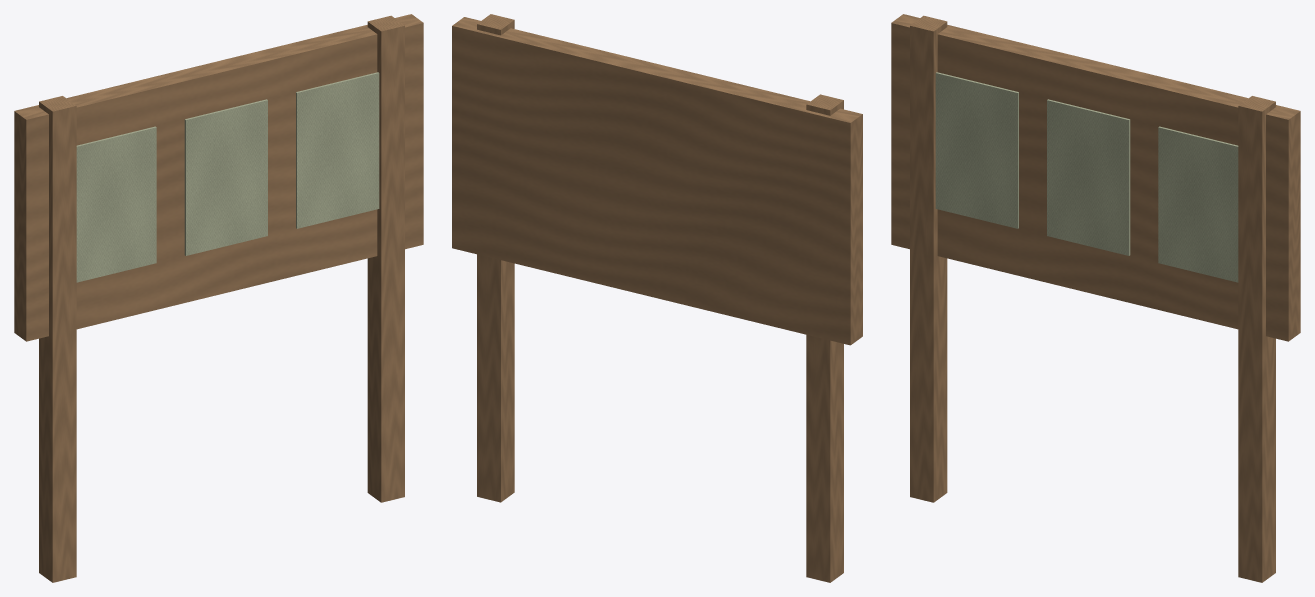
Rendered from board.glb.
The picture shows the model from 3 angles, left to right: view 1: azimuth 30°, elevation 25°; view 2: azimuth 150°, elevation 25°; view 3: azimuth 330°, elevation 25°; orthographic projection.
Parts seen in each view (by area): view 1: notice backing, board post, board post.001, paper notice.001, paper notice.002, paper notice; view 2: notice backing, board post, board post.001; view 3: notice backing, board post.001, board post, paper notice.001, paper notice, paper notice.002.
Part boxes in pixels (bbox=[...]): notice backing: bbox=[14, 14, 423, 341]; board post: bbox=[39, 96, 76, 582]; board post.001: bbox=[367, 15, 404, 502]; paper notice.001: bbox=[184, 99, 267, 255]; paper notice.002: bbox=[296, 72, 379, 228]; paper notice: bbox=[76, 126, 156, 282]; notice backing: bbox=[452, 17, 862, 345]; board post: bbox=[806, 94, 843, 582]; board post.001: bbox=[477, 14, 514, 502]; notice backing: bbox=[891, 14, 1300, 341]; board post.001: bbox=[1238, 96, 1275, 582]; board post: bbox=[910, 15, 947, 502]; paper notice.001: bbox=[1047, 99, 1130, 255]; paper notice: bbox=[935, 72, 1018, 228]; paper notice.002: bbox=[1158, 126, 1238, 282].
Bounding box in the file's own units: 1.5 × 1.7 × 0.105.
Materials: 2 (2 with a texture image).
